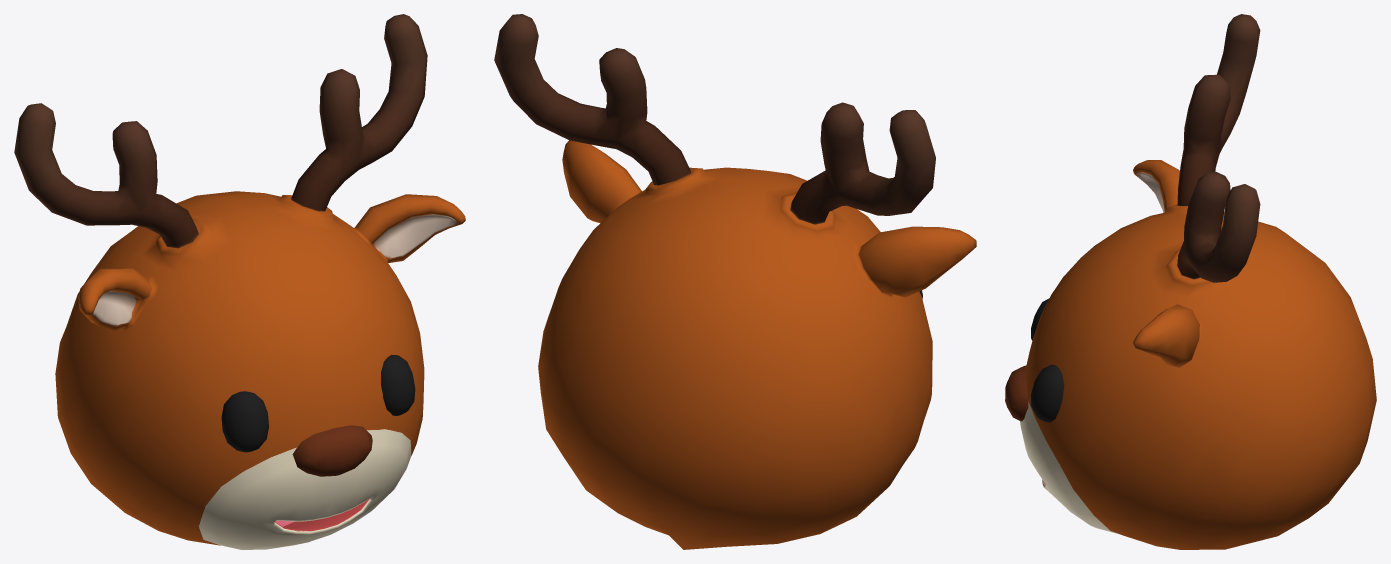
The model's file is deer.glb.
3 views of the same model, side by side, from view 1: azimuth 30°, elevation 25°; view 2: azimuth 150°, elevation 25°; view 3: azimuth 270°, elevation 25° (orthographic). The views are drawn at different scales.
Visible parts, largest first — view 1: DeerHead, DeerHead_DeerHead_03_0.001; view 2: DeerHead; view 3: DeerHead, DeerHead_DeerHead_03_0.001.
Boxes of the visible parts, box(x1,y1,x2,y2) form: DeerHead: box(14, 14, 465, 549); DeerHead_DeerHead_03_0.001: box(381, 355, 415, 415); DeerHead: box(494, 14, 976, 549); DeerHead: box(1005, 14, 1376, 549); DeerHead_DeerHead_03_0.001: box(1031, 364, 1064, 422).
Size of the model in its own units: 52.84 by 55.18 by 43.66.
4 materials, 4 textured.
